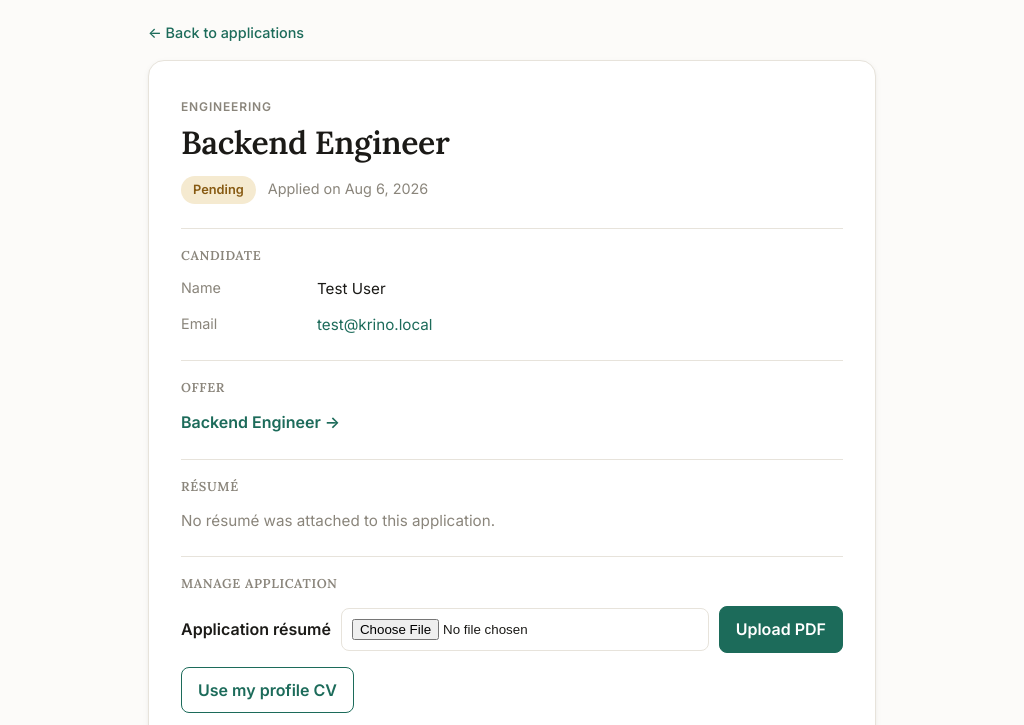
Test: application detail actions › lets the owner replace the résumé with their profile CV and shows its filename
The image size is (1024, 725).
What coordinates should you click on to do the following:
click the button "Use my profile CV"
I would click on:
 (268, 690)
Its box is top-left (181, 667), bottom-right (354, 713).
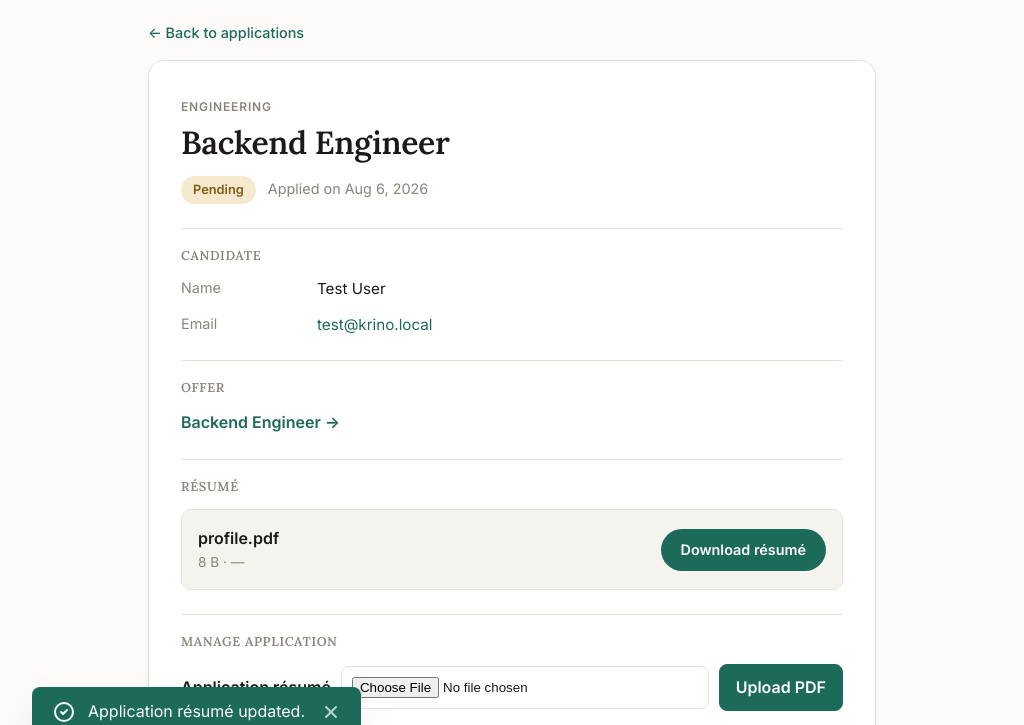
Result: the text "profile.pdf" is shown at top-left (198, 526), bottom-right (279, 550)
